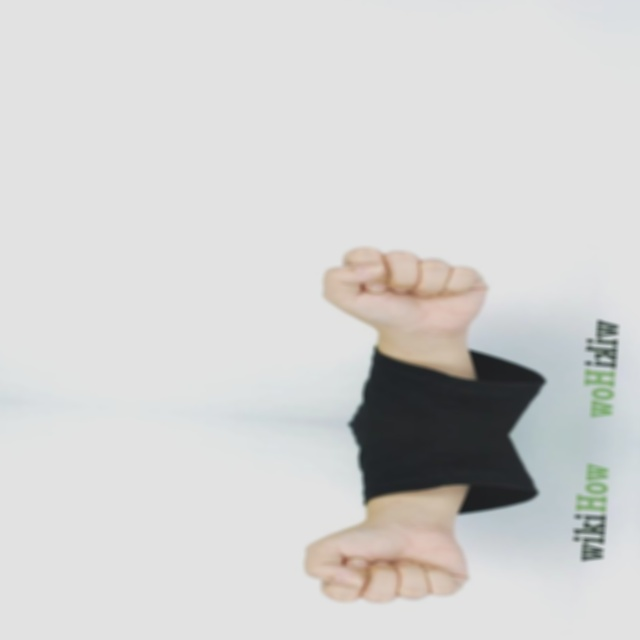Rock: (296, 521, 475, 612)
